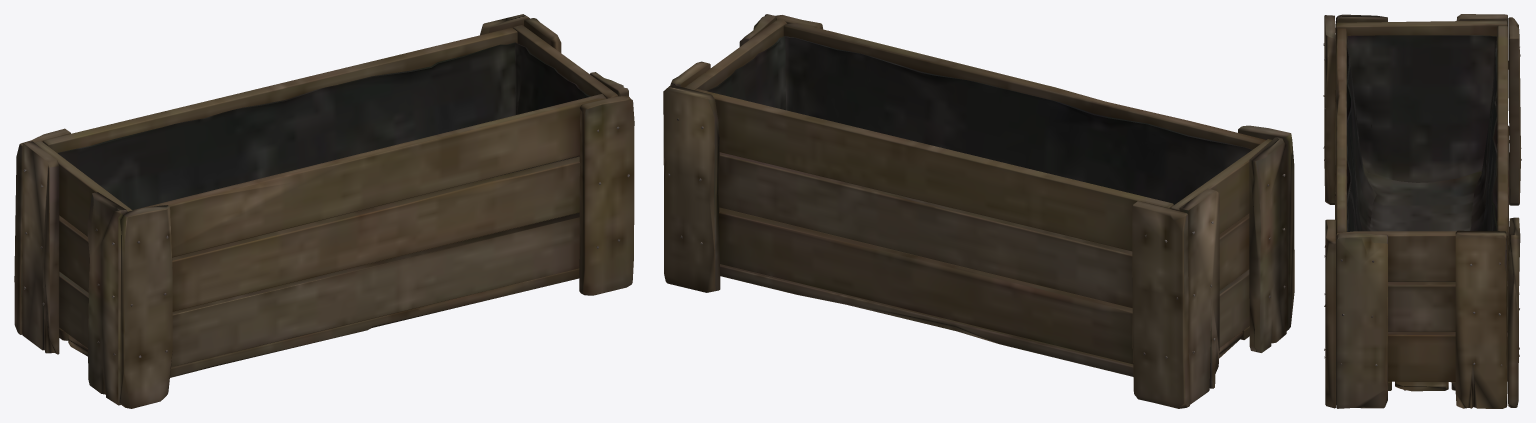
File: planter_box_02.glb
3 renders of one model, left to right at view 1: azimuth 30°, elevation 25°; view 2: azimuth 150°, elevation 25°; view 3: azimuth 270°, elevation 25°, orthographic. The views are drawn at different scales.
Visible parts, largest first — view 1: planter_box_02; view 2: planter_box_02; view 3: planter_box_02.
Part boxes in pixels (x1,y1,x2,y2): planter_box_02: [14, 14, 634, 408]; planter_box_02: [663, 14, 1294, 408]; planter_box_02: [1323, 14, 1521, 408].
Size of the model in its own units: 1.25 by 0.4534 by 0.4672.
1 material, 1 textured.
